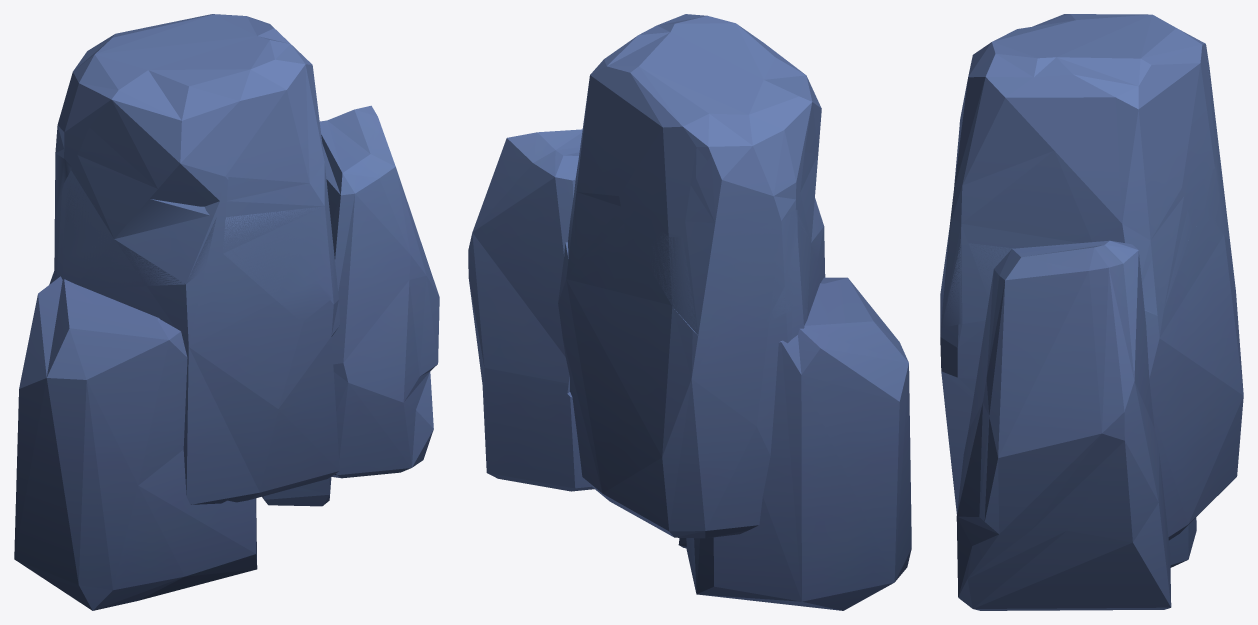
File: LOC_Stone.fbx
3 renders of one model, left to right at view 1: azimuth 30°, elevation 25°; view 2: azimuth 150°, elevation 25°; view 3: azimuth 270°, elevation 25°, orthographic. The views are drawn at different scales.
Parts seen in each view (by area): view 1: Stone_v_1, Stone_v_4, Stone_v_2, Stone_v_3, Stone_base; view 2: Stone_v_1, Stone_v_2, Stone_v_4, Stone_v_3; view 3: Stone_v_2, Stone_v_4, Stone_v_1, Stone_v_3.
Part boxes in pixels (x1,y1,x2,y2): Stone_v_1: [14, 337, 433, 610]; Stone_v_4: [54, 14, 336, 321]; Stone_v_2: [18, 105, 439, 478]; Stone_v_3: [55, 153, 336, 322]; Stone_base: [262, 477, 331, 506]; Stone_v_1: [482, 352, 911, 610]; Stone_v_2: [468, 129, 910, 444]; Stone_v_4: [565, 14, 823, 335]; Stone_v_3: [568, 208, 823, 336]; Stone_v_2: [940, 221, 1237, 550]; Stone_v_4: [941, 14, 1229, 327]; Stone_v_1: [943, 294, 1243, 610]; Stone_v_3: [940, 157, 1229, 328].
Bounding box in the file's own units: 160 × 199 × 93.14.
